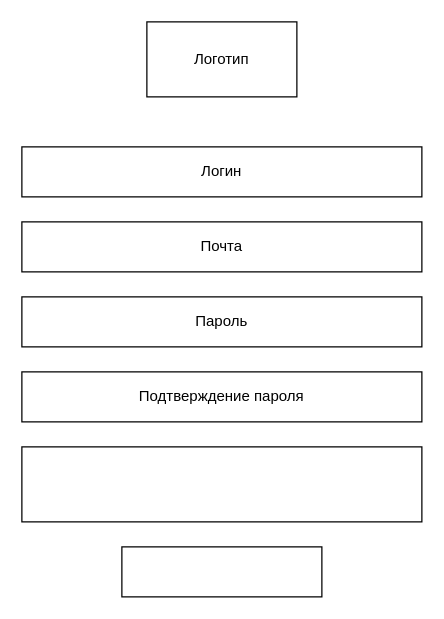
Image size: 444x619. Some labels were removed from this diagram. Each missing label, with the centre of its shape:
Капча: (221,484)
Кнопка регистрации: (221,571)
